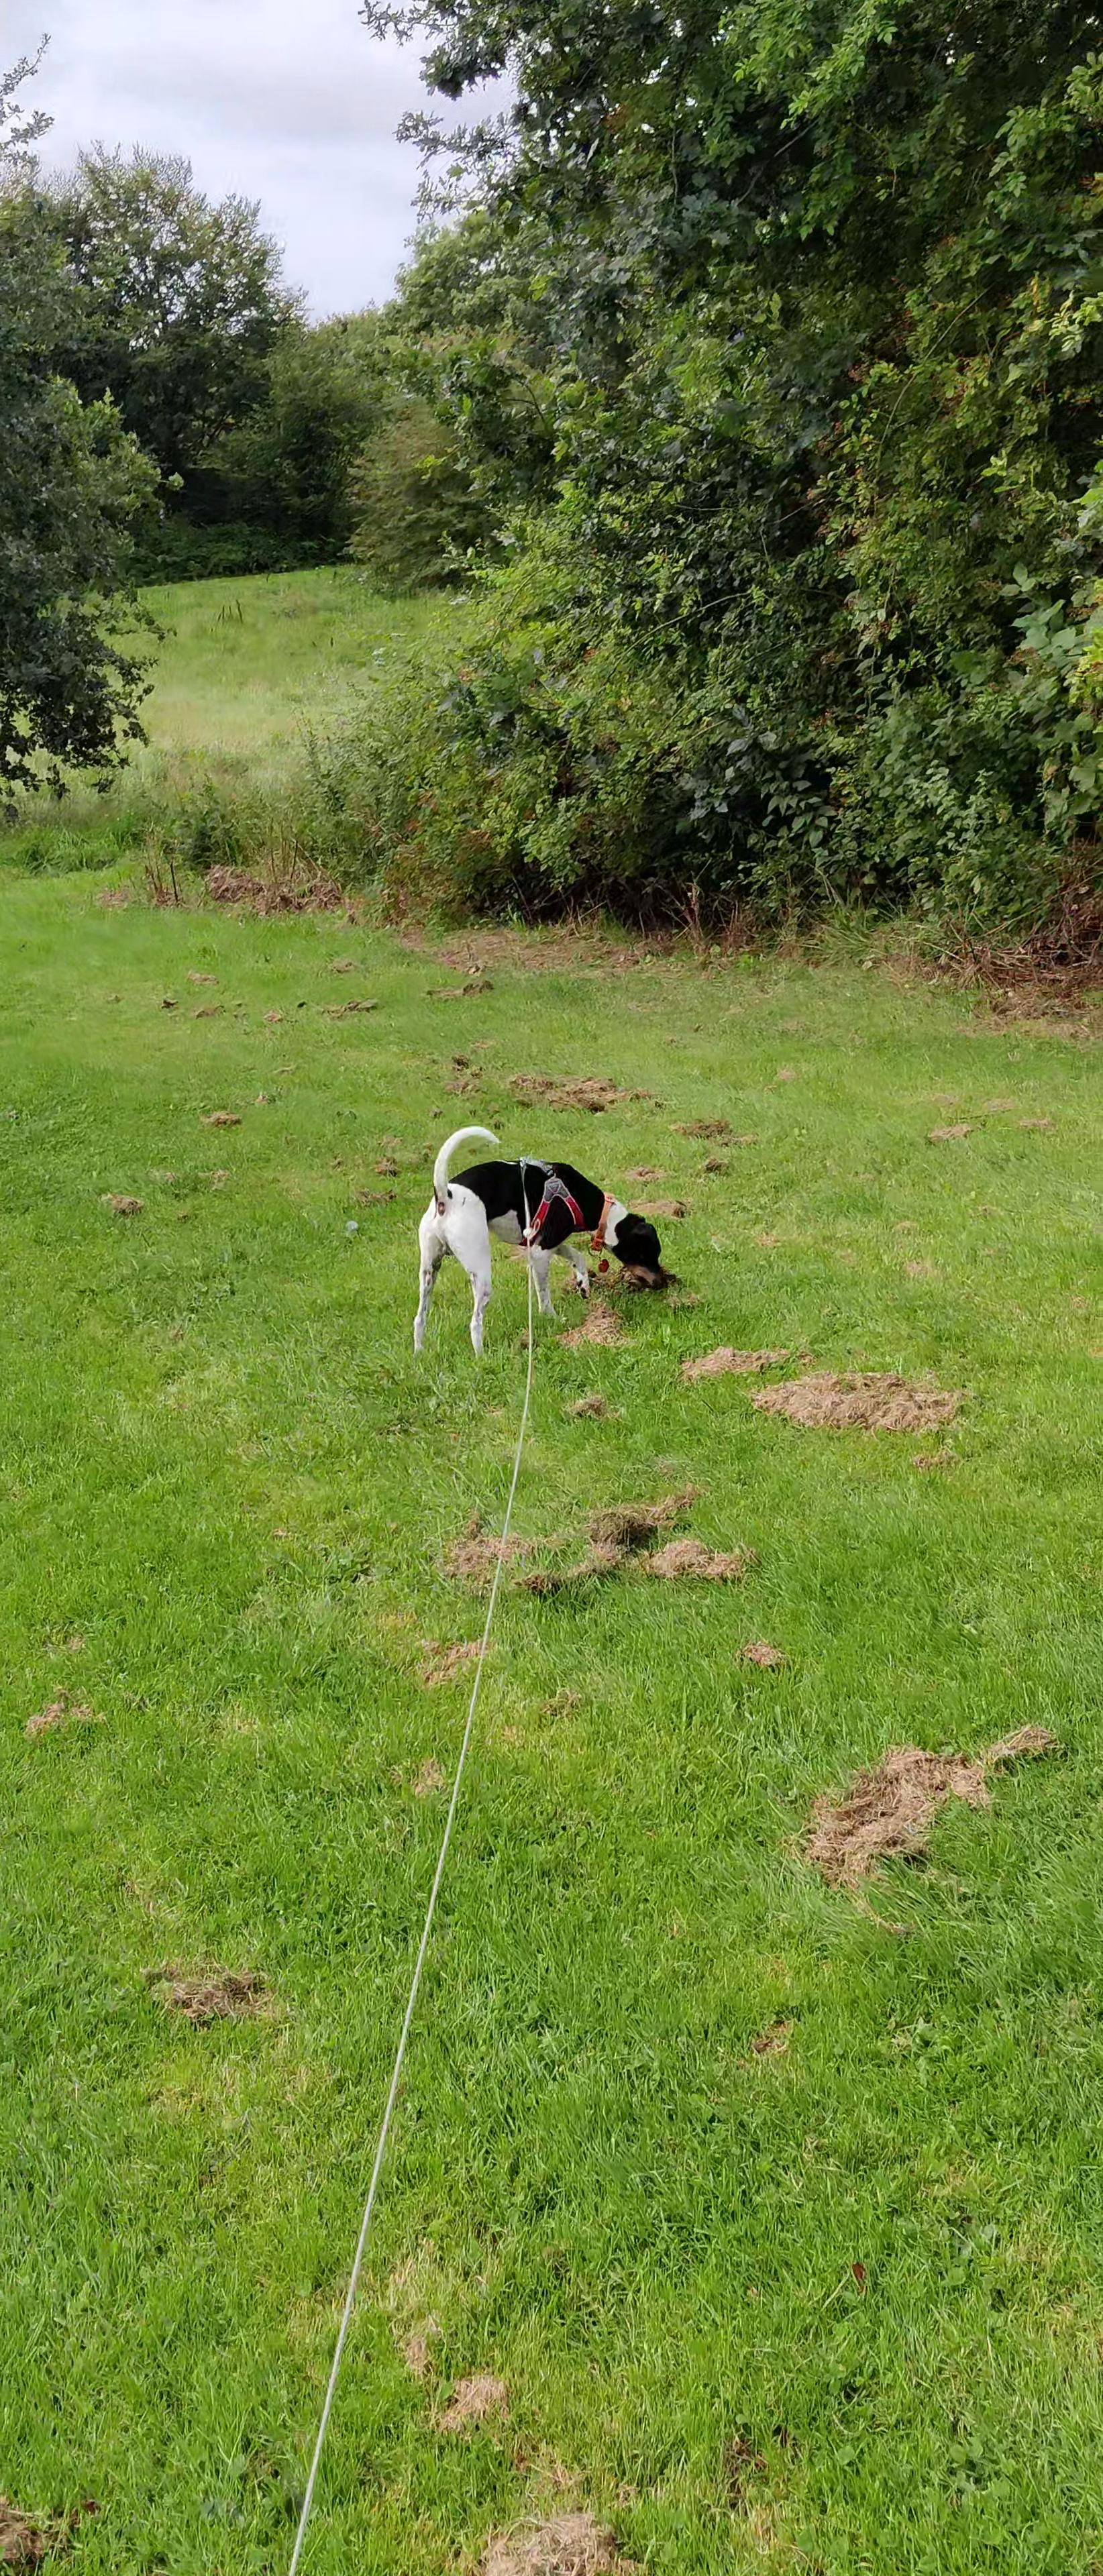Dog: (388, 1124, 677, 1364)
